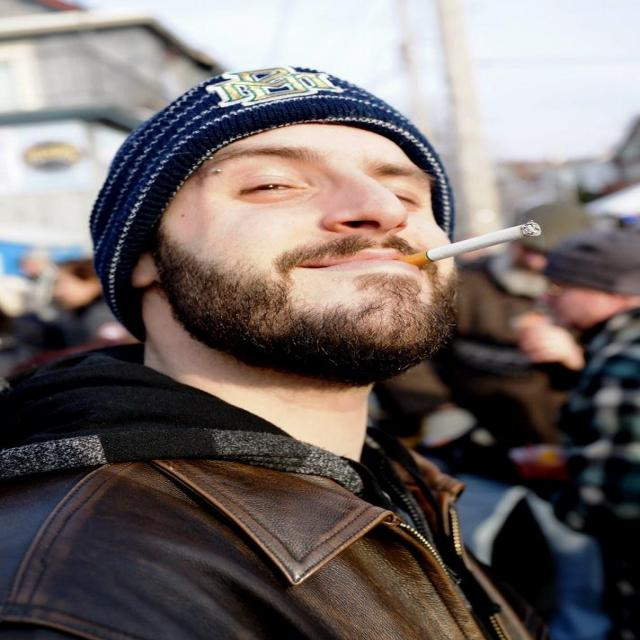Сигарета: (404, 222, 544, 264)
Тело: (42, 65, 468, 640)
